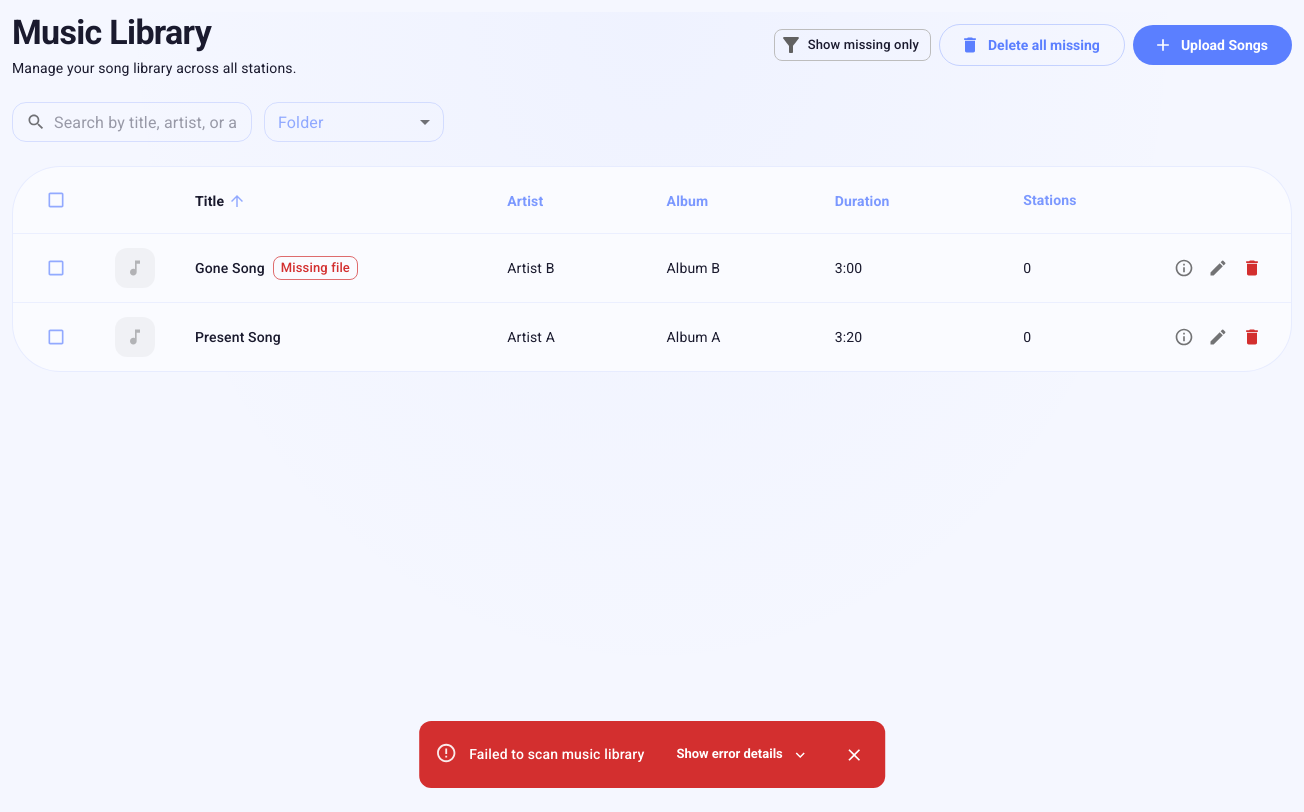
Test: Songs Page › shows only missing songs when the missing filter is active
Expected: the text "Present Song" is shown, [195,327,281,347]
Click the button "Show missing only".
click(852, 45)  # box [774,29,931,61]
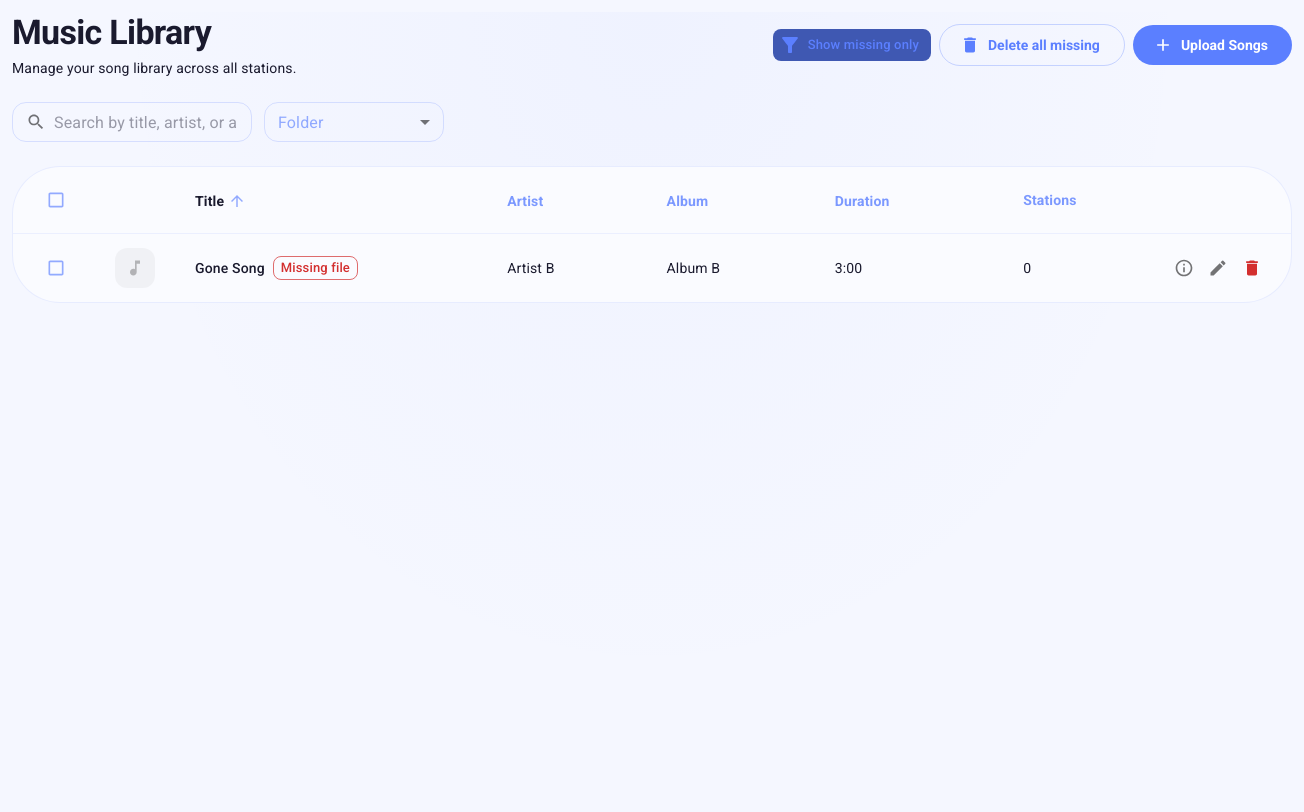
Expected: the text "Gone Song" is shown, [195,258,265,278]
Expected: the text "Present Song" is gone
